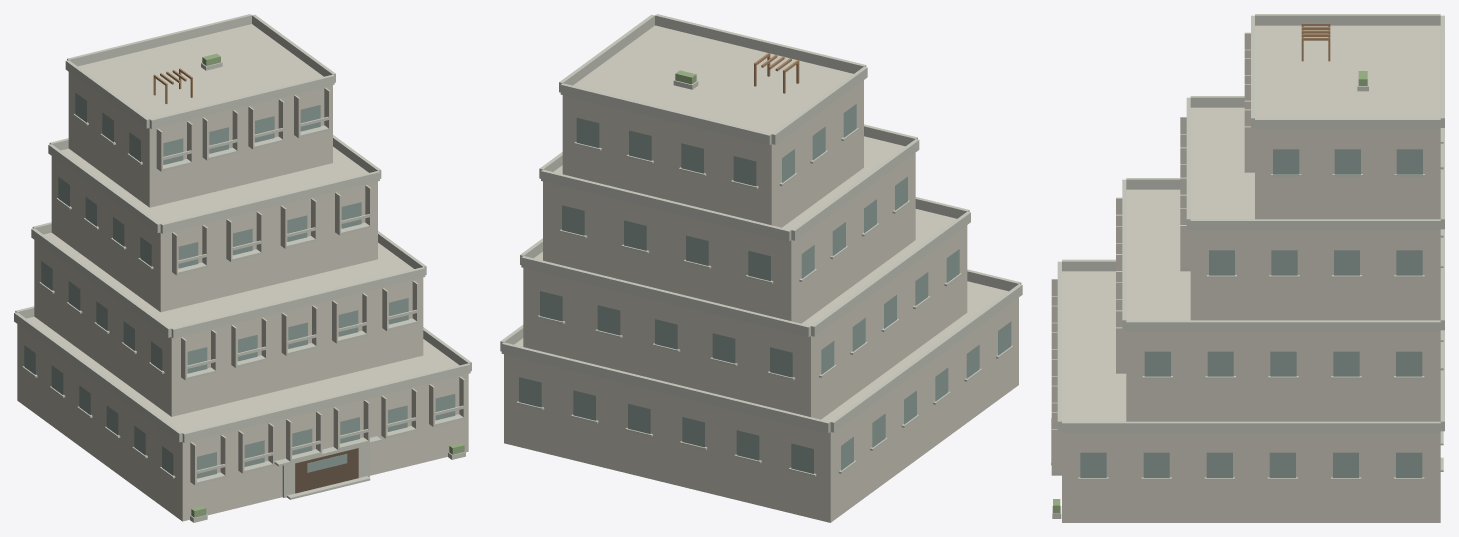
The model's file is residential_3x3_terraces.glb.
The picture shows the model from 3 angles, left to right: view 1: azimuth 30°, elevation 25°; view 2: azimuth 150°, elevation 25°; view 3: azimuth 270°, elevation 25°; orthographic projection. The views are drawn at different scales.
Parts seen in each view (by area): view 1: residential_3x3_terraces_0; view 2: residential_3x3_terraces_0; view 3: residential_3x3_terraces_0.
Part boxes in pixels (<box>): residential_3x3_terraces_0: <box>14,14,471,522</box>; residential_3x3_terraces_0: <box>500,14,1022,522</box>; residential_3x3_terraces_0: <box>1051,14,1444,522</box>.
Bounding box in the file's own units: 23 × 25.5 × 23.4.
